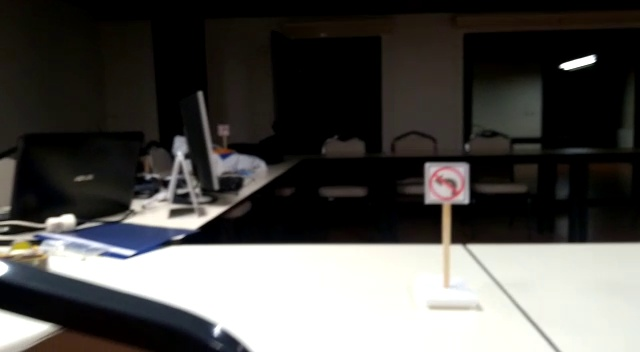sola_donulmez: (424, 162, 470, 204)
